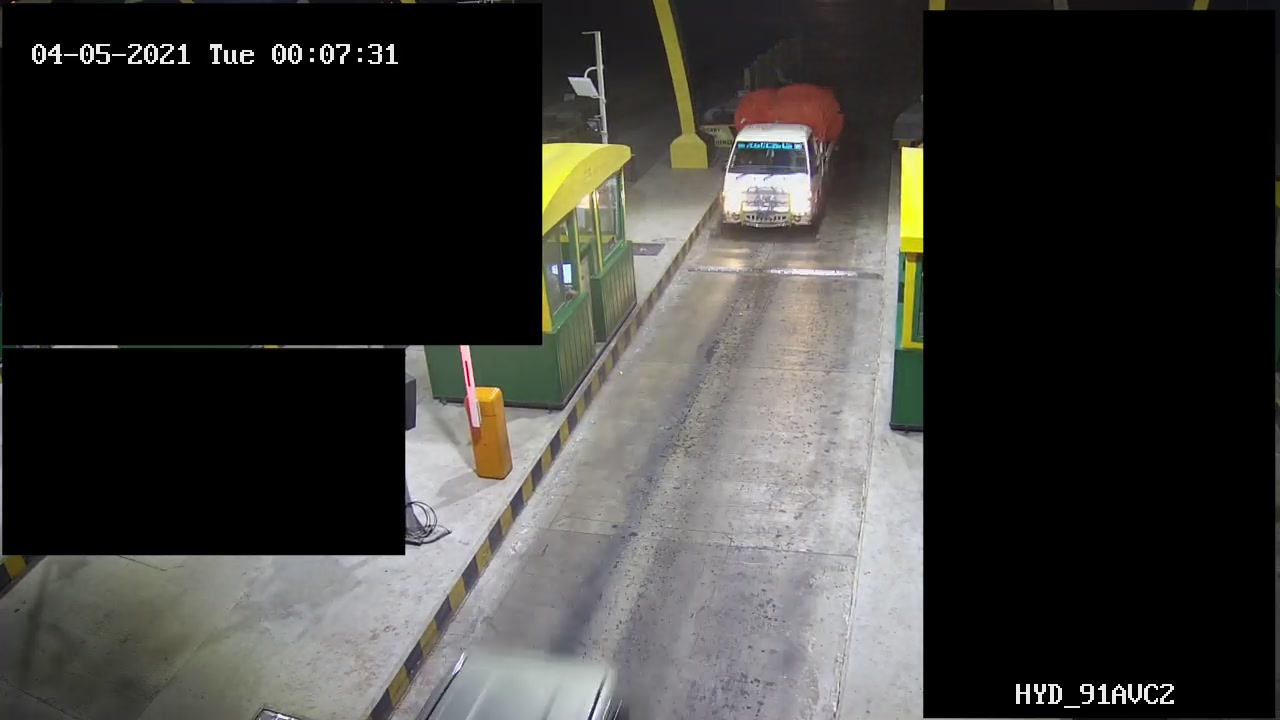F3: (714, 74, 858, 238)
